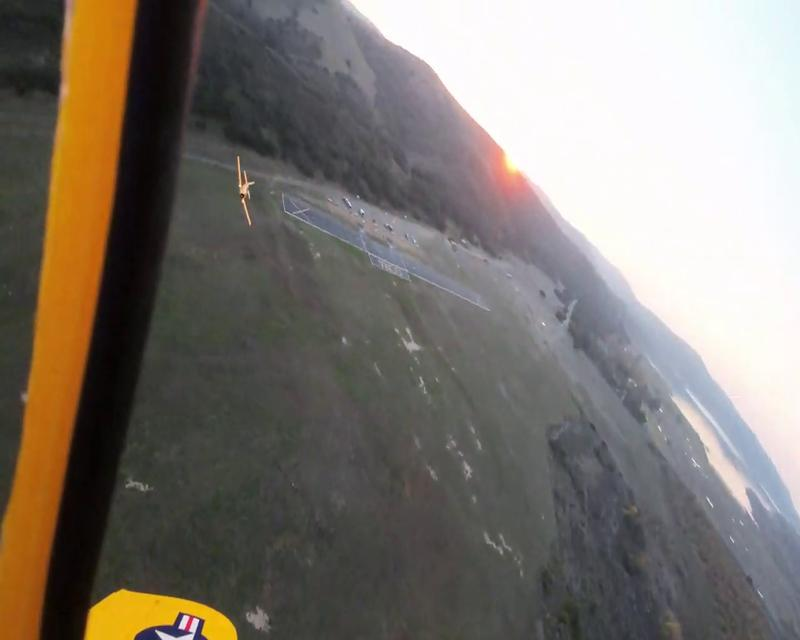UAV: (237, 157, 256, 226)
